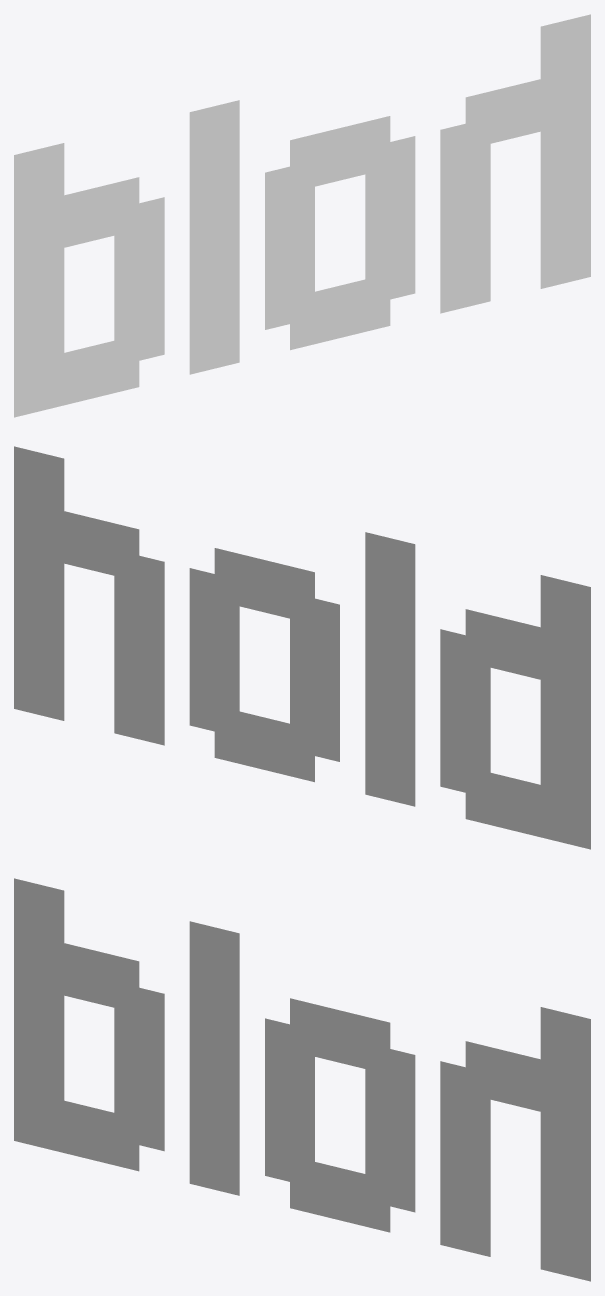
File: hold.obj
3 views of the same model, one above another, from view 1: azimuth 30°, elevation 25°; view 2: azimuth 150°, elevation 25°; view 3: azimuth 330°, elevation 25° (orthographic).
Visible parts, largest first — view 1: テキスト; view 2: テキスト; view 3: テキスト.
Boxes of the visible parts, <box> form: テキスト: <box>14,14,590,417</box>; テキスト: <box>14,446,590,849</box>; テキスト: <box>14,878,590,1281</box>.
Size of the model in its own units: 0.9583 by 0.4167 by 0.
1 material, 1 textured.
